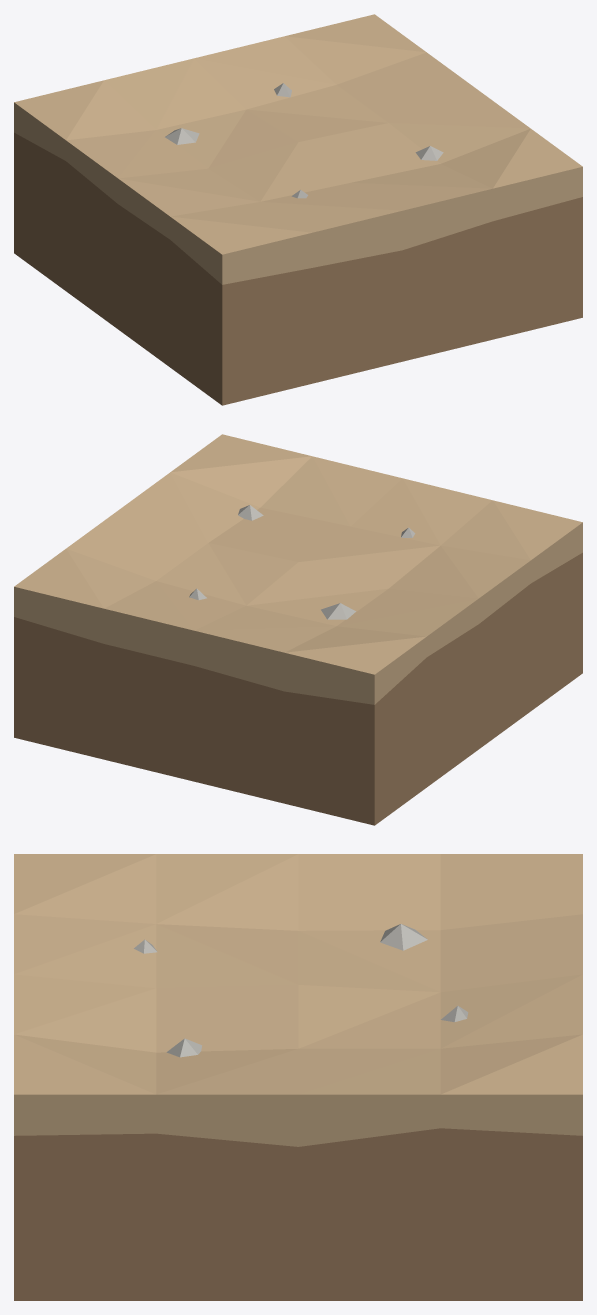
File: DirtPathTile.fbx
3 renders of one model, top to bottom at view 1: azimuth 30°, elevation 25°; view 2: azimuth 150°, elevation 25°; view 3: azimuth 270°, elevation 25°, orthographic. The views are drawn at different scales.
Parts seen in each view (by area): view 1: DirtPathTile; view 2: DirtPathTile; view 3: DirtPathTile.
Boxes of the visible parts, <box> form: DirtPathTile: <box>14,14,582,405</box>; DirtPathTile: <box>14,434,582,825</box>; DirtPathTile: <box>14,854,582,1300</box>.
Size of the model in its own units: 1 by 0.4 by 1.
